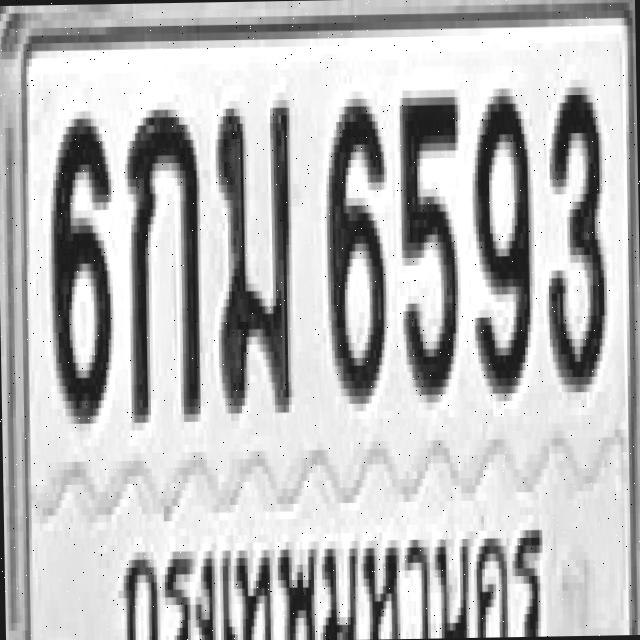10GorGai: (125, 101, 202, 422)
3: (544, 79, 606, 392)
42MorMa: (214, 92, 294, 413)
5: (396, 89, 462, 402)
6: (48, 110, 114, 424), (324, 90, 387, 404)
9: (469, 88, 532, 394)
Bangkok: (116, 514, 546, 640)
